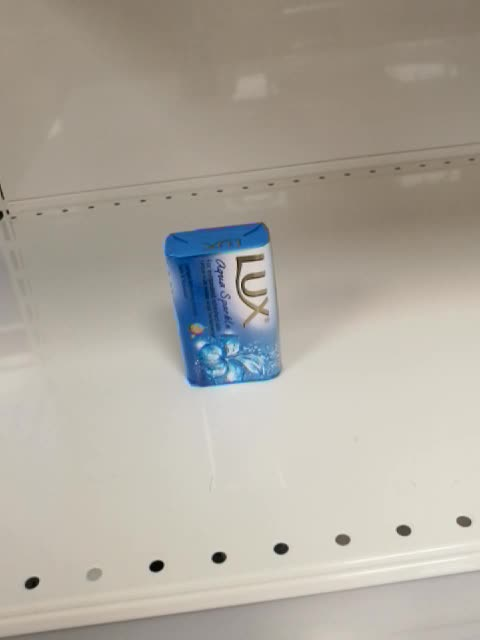soap: (162, 221, 284, 388)
